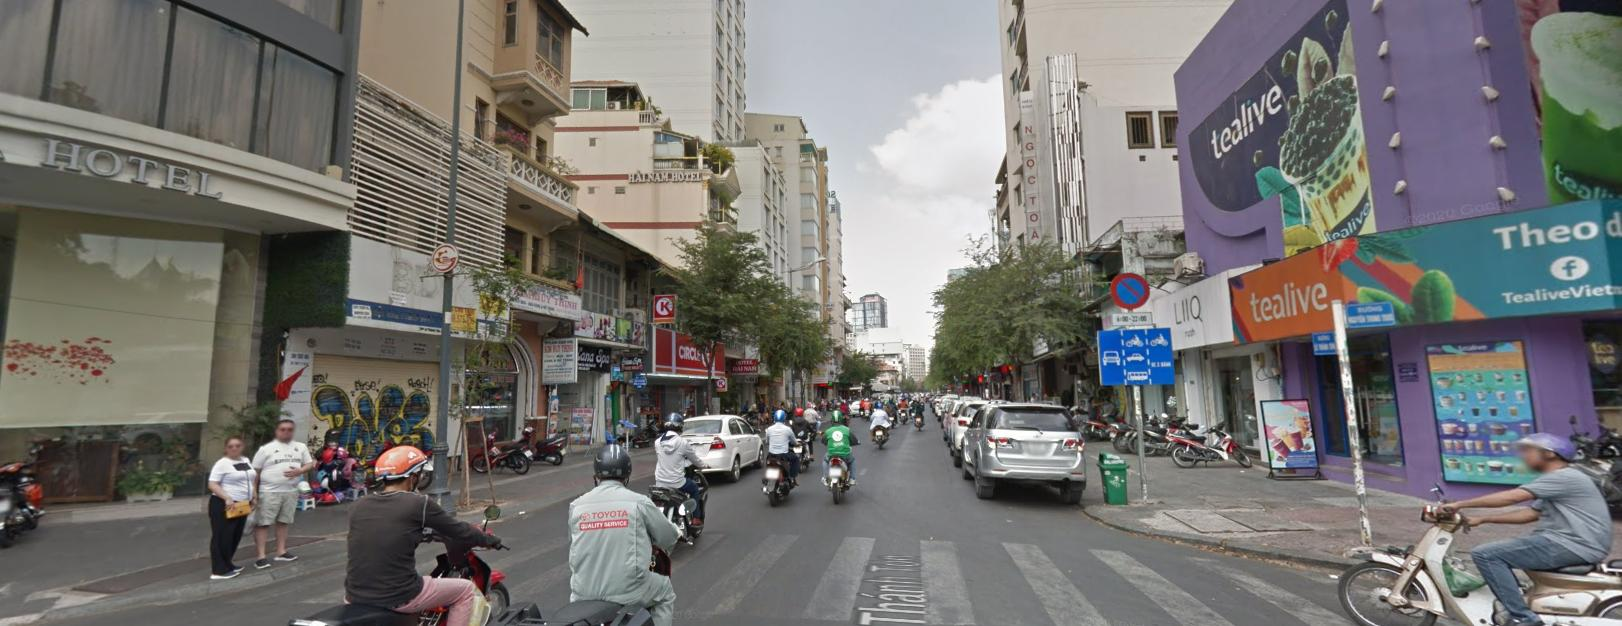Cam dung va do: (1110, 269, 1149, 312)
